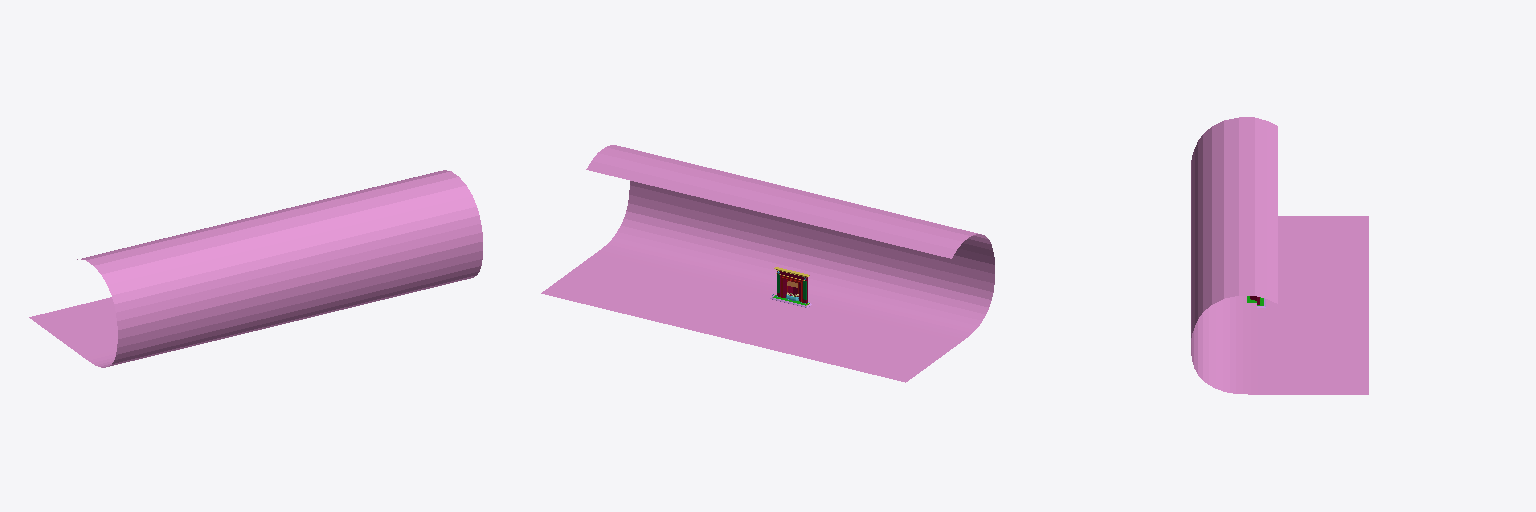
3 views of the same model, side by side, from view 1: azimuth 30°, elevation 25°; view 2: azimuth 150°, elevation 25°; view 3: azimuth 270°, elevation 25° (orthographic).
Visible parts, largest first — view 1: sd; view 2: sd; view 3: sd.
Part boxes in pixels (bbox=[...]): sd: bbox=[29, 170, 482, 367]; sd: bbox=[541, 145, 994, 382]; sd: bbox=[1191, 117, 1368, 394].
Size of the model in its own units: 1481 by 383 by 626.